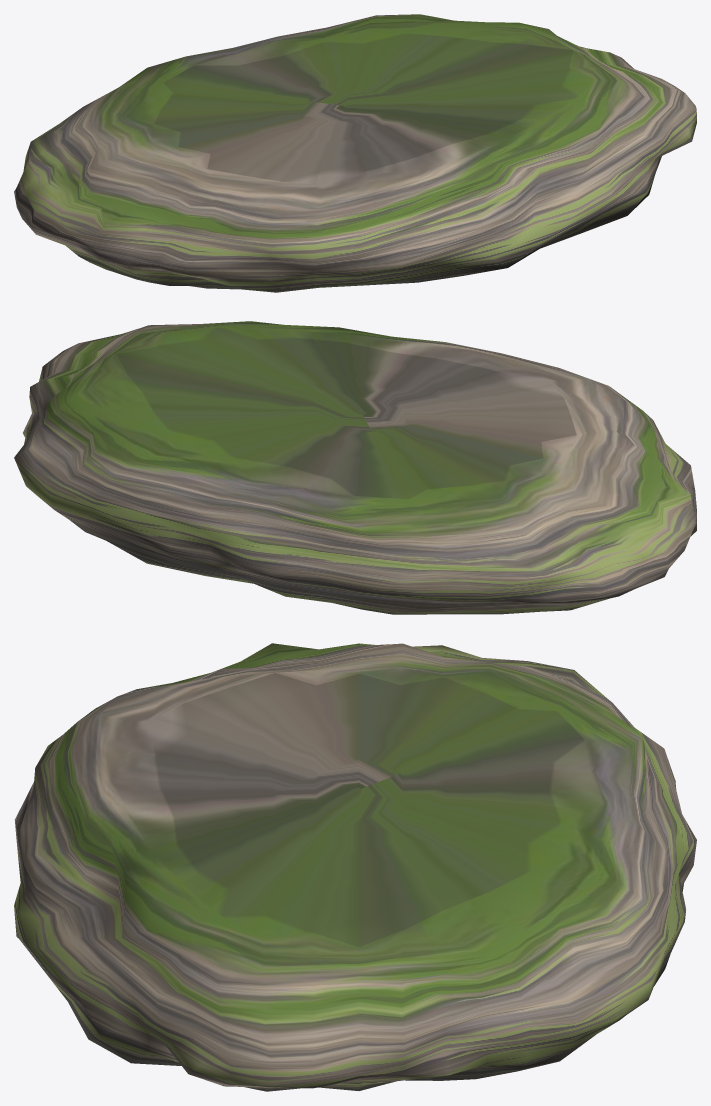
File: river_slab.glb
3 views of the same model, one above another, from view 1: azimuth 30°, elevation 25°; view 2: azimuth 150°, elevation 25°; view 3: azimuth 270°, elevation 25° (orthographic). The views are drawn at different scales.
Visible parts, largest first — view 1: river_slab; view 2: river_slab; view 3: river_slab.
Boxes of the visible parts, bbox=[...] form: river_slab: bbox=[14, 14, 696, 292]; river_slab: bbox=[14, 321, 696, 614]; river_slab: bbox=[14, 643, 696, 1091].
Size of the model in its own units: 1.52 by 0.22 by 1.03.
1 material, 1 textured.
